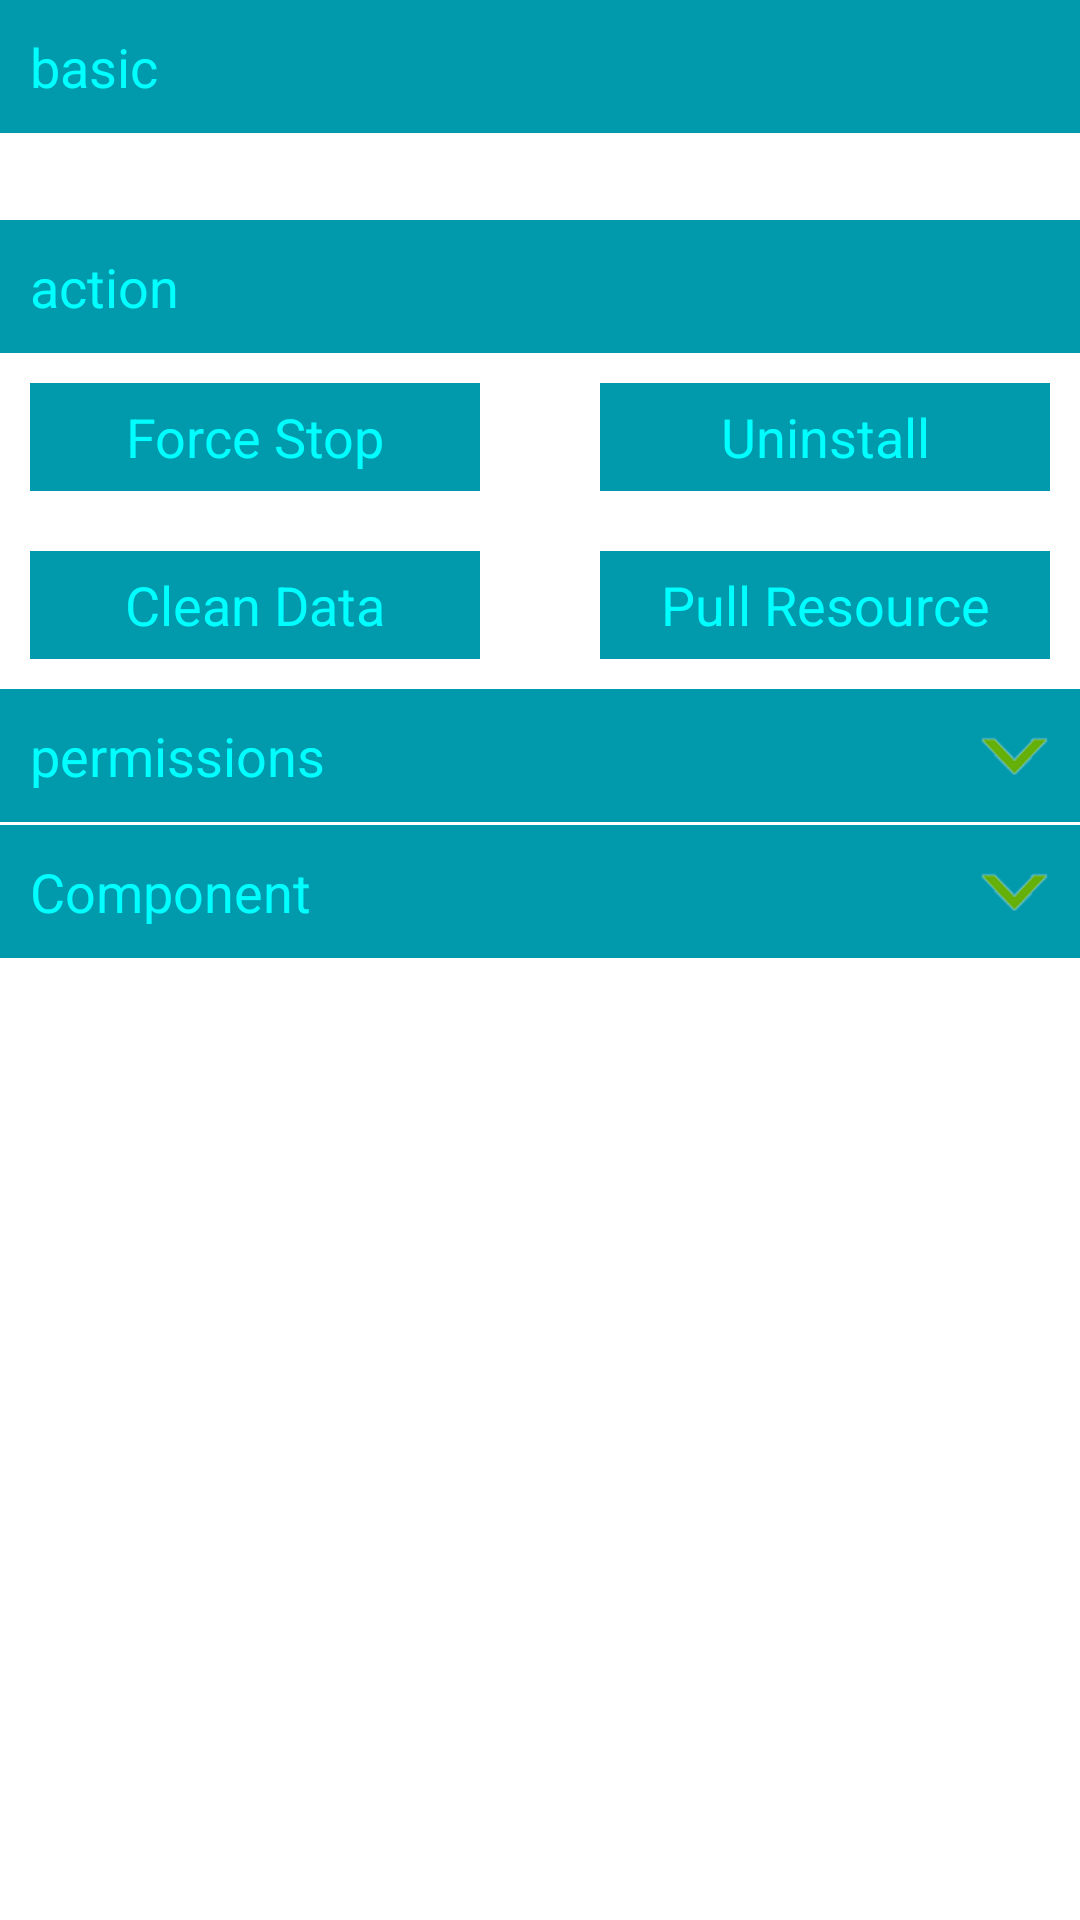

Named icons in this screenshot (1080*1920) and their centers, [x,y]:
arrow: [1014,756], [1014,892]
